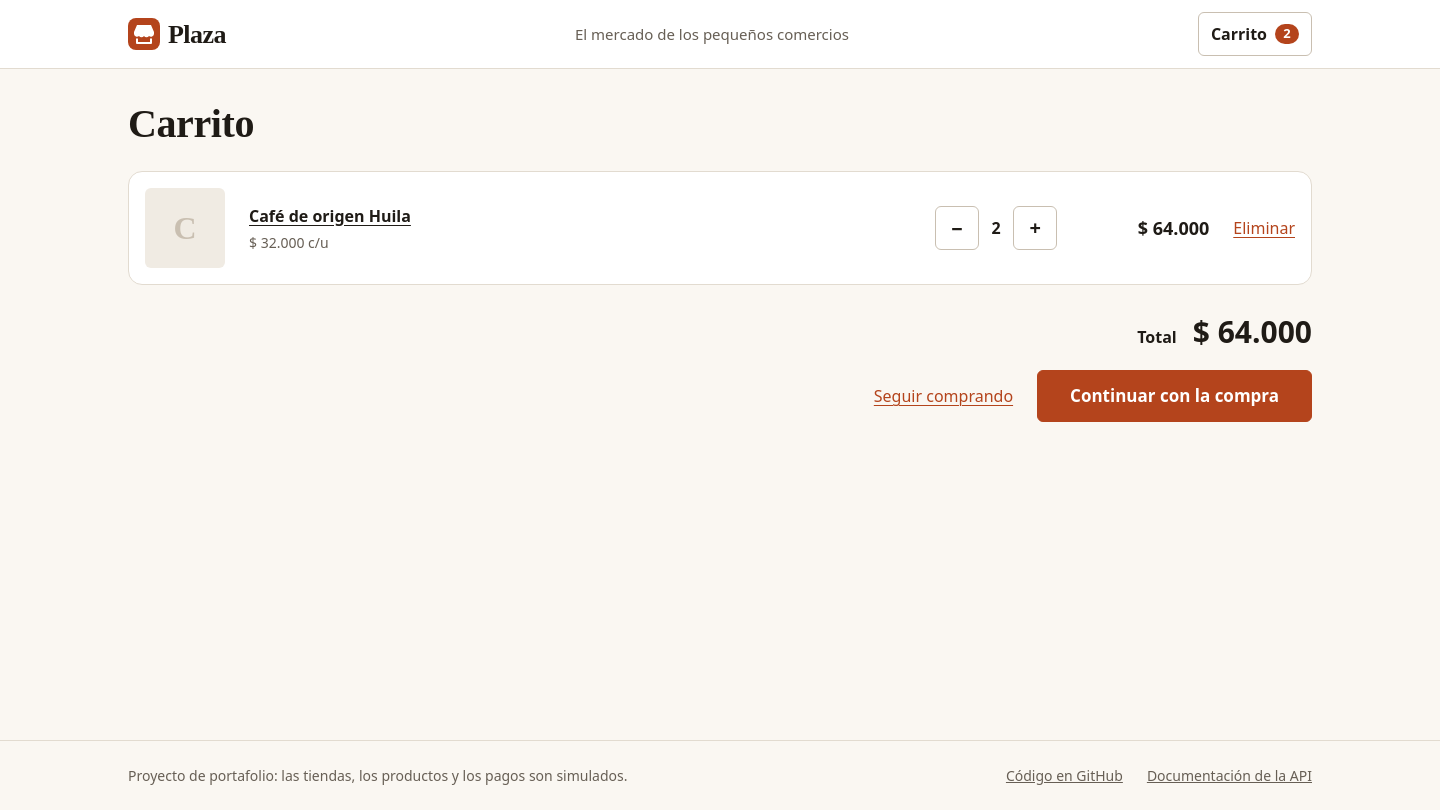
Scenario: CartPage › shows the empty state after removing the last line
Click the button with aria-label "Eliminar Café de origen Huila del carrito" at (1264, 228), box top-left (1233, 206), bottom-right (1295, 250)
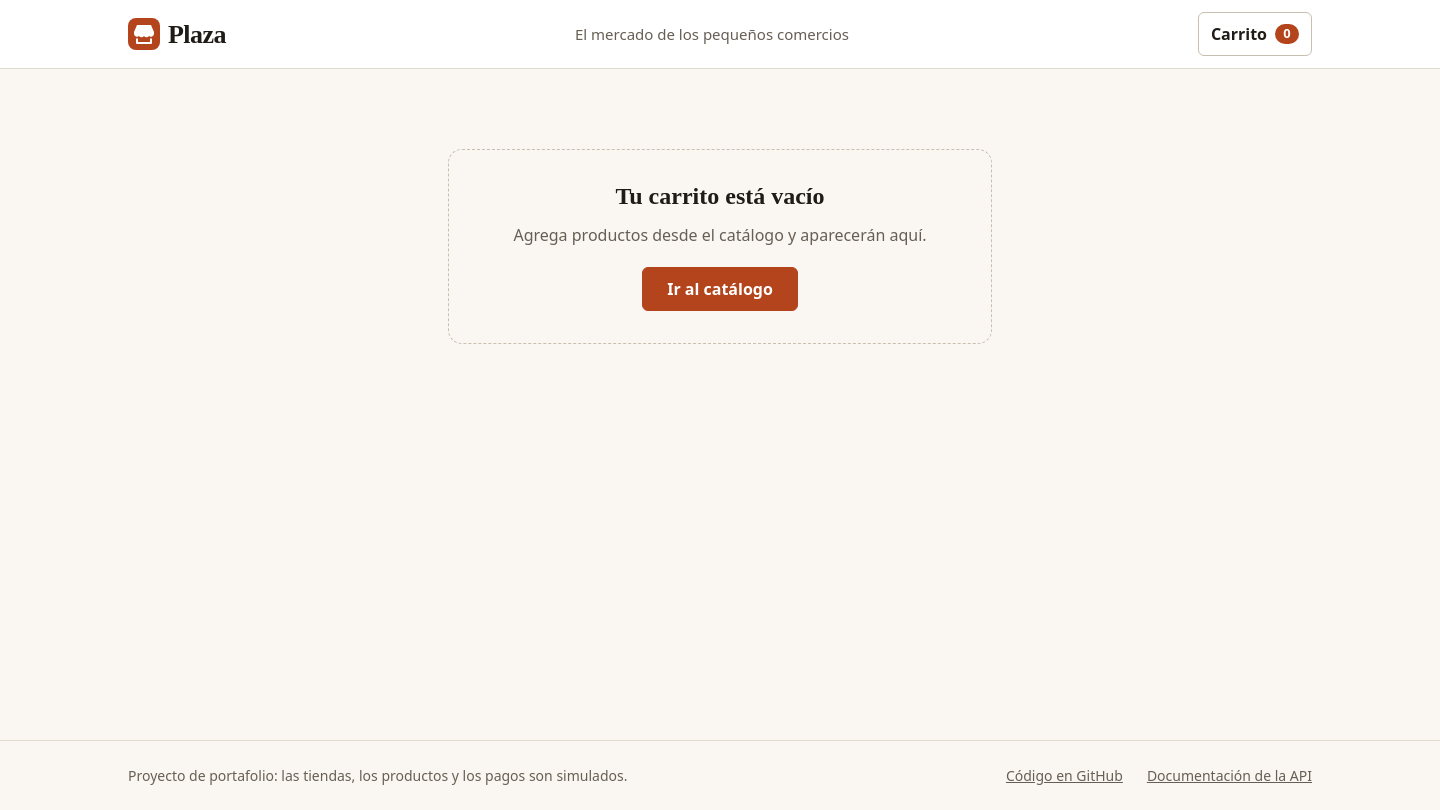
Expected: the heading "Tu carrito está vacío" is shown, top-left (616, 182), bottom-right (825, 211)
